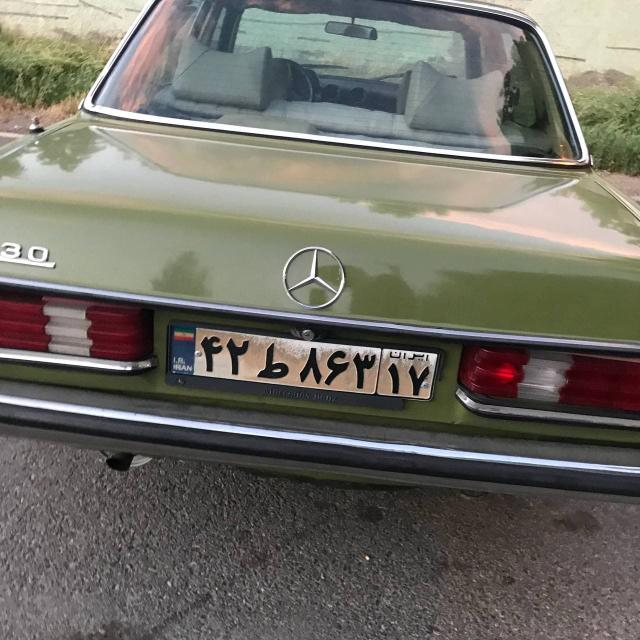Plates: (168, 326, 438, 401)
